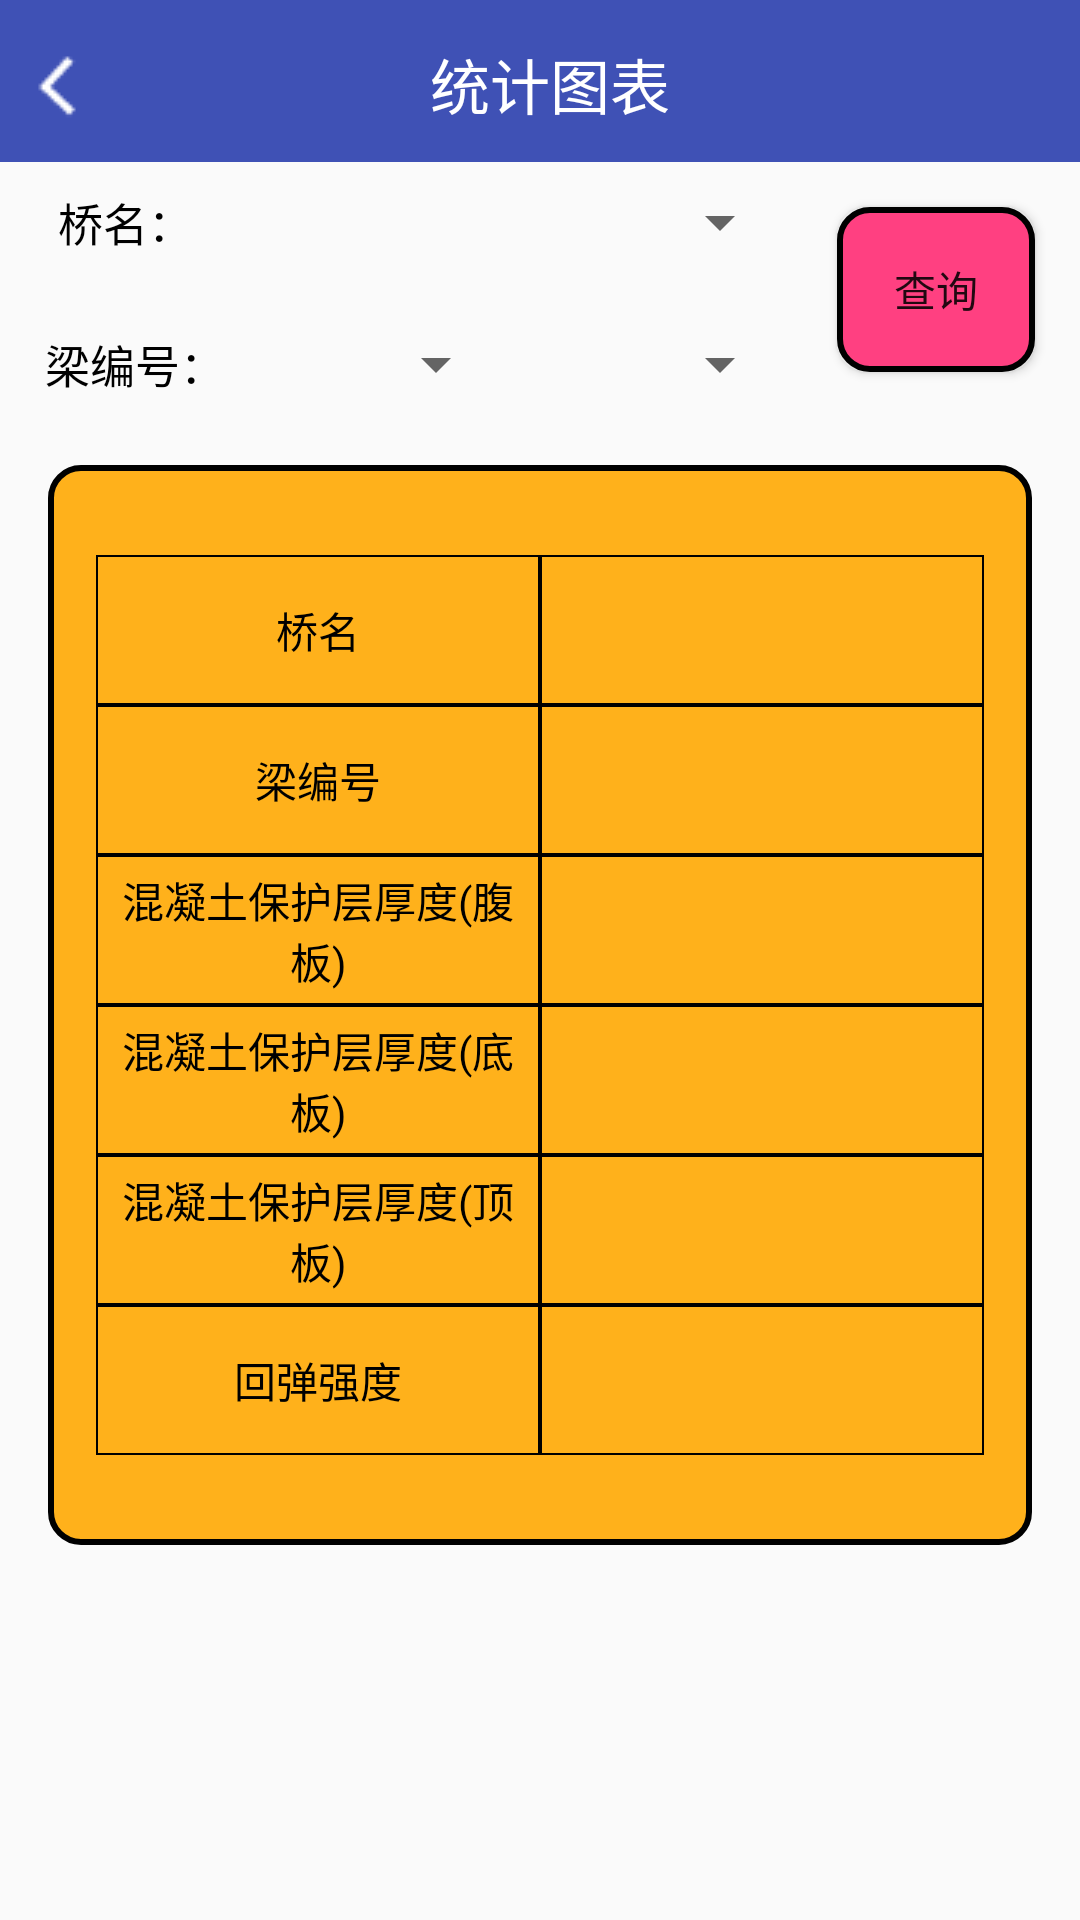

Named icons in this screenshot (1080 × 1920) and their bounding boxes, [x1, y1, x2, y2]:
back: [39, 56, 76, 115]
